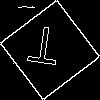T: (25, 25, 62, 74)
